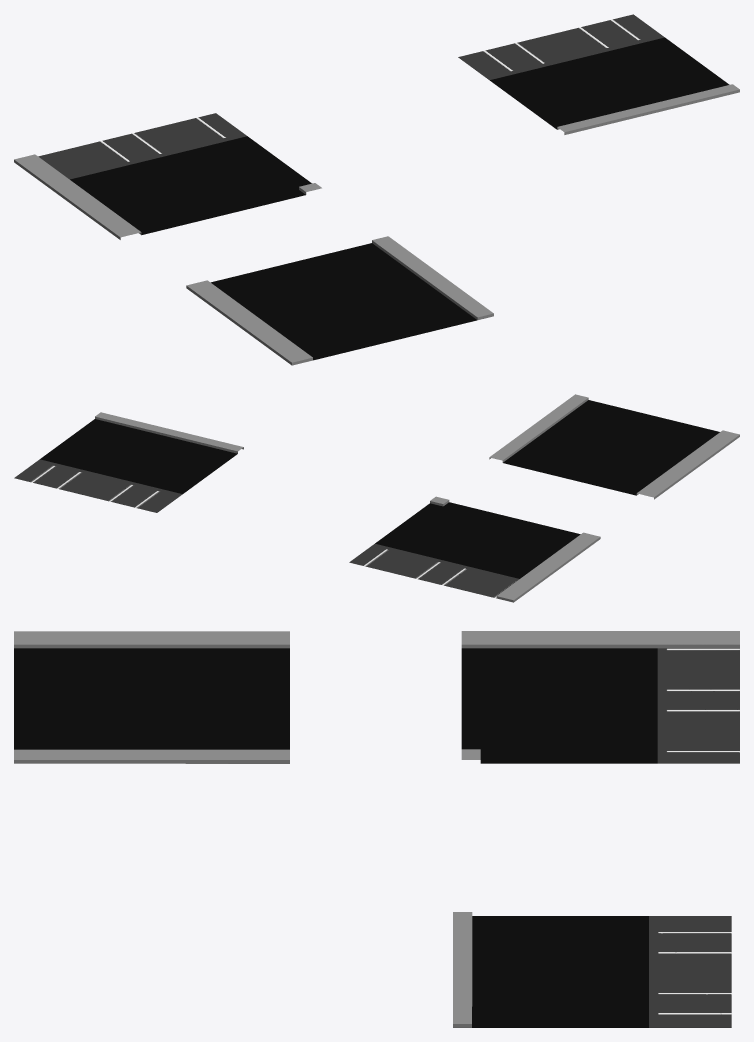
File: Road.fbx
3 renders of one model, top to bottom at view 1: azimuth 30°, elevation 25°; view 2: azimuth 150°, elevation 25°; view 3: azimuth 270°, elevation 25°, orthographic. The views are drawn at different scales.
Visible parts, largest first — view 1: Plane.004, Plane.005, Plane.003; view 2: Plane.004, Plane.005, Plane.003; view 3: Plane.005, Plane.004, Plane.003.
Boxes of the visible parts, x1,y1,x2,y2 form: Plane.004: (186, 236, 493, 365); Plane.005: (14, 113, 321, 239); Plane.003: (458, 14, 739, 134); Plane.004: (489, 394, 739, 499); Plane.005: (349, 496, 600, 602); Plane.003: (14, 412, 243, 512); Plane.005: (461, 631, 739, 763); Plane.004: (14, 631, 289, 763); Plane.003: (453, 912, 731, 1027).
Size of the model in its own units: 8485 by 38.92 by 6625.
